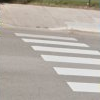crosswalk: (14, 32, 100, 93)
